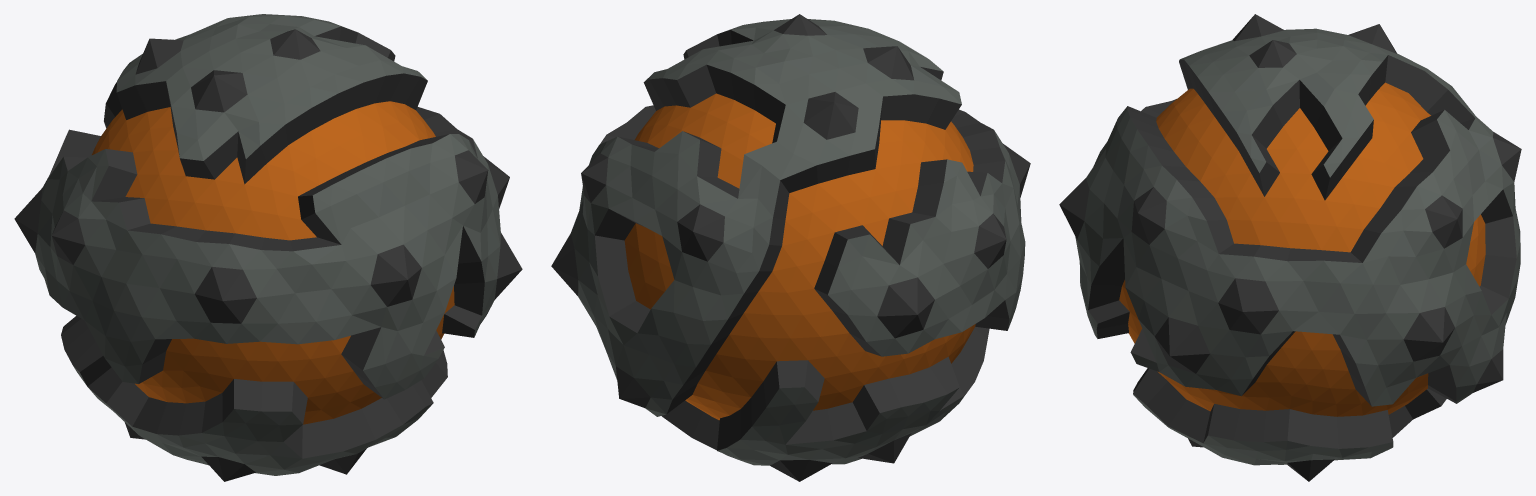
File: KasklıGunes.fbx
3 views of the same model, side by side, from view 1: azimuth 30°, elevation 25°; view 2: azimuth 150°, elevation 25°; view 3: azimuth 270°, elevation 25° (orthographic). The views are drawn at different scales.
Visible parts, largest first — view 1: Icosphere; view 2: Icosphere; view 3: Icosphere.
Part boxes in pixels (box(x1,y1,x2,y2)): Icosphere: box(14, 14, 522, 481); Icosphere: box(551, 14, 1030, 481); Icosphere: box(1059, 14, 1521, 481).
Bounding box in the file's own units: 224 × 222 × 218.
